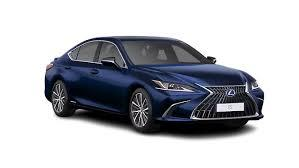lexus: (220, 84, 241, 100)
